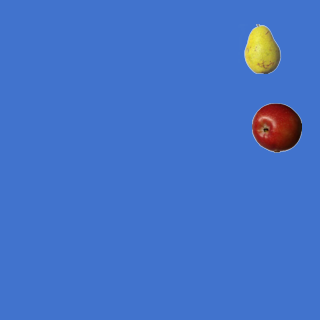Apple Braeburn: (251, 102, 301, 152)
Pear Monster: (237, 23, 287, 73)
